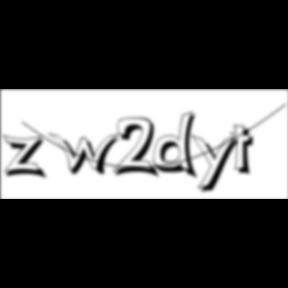2: (113, 117, 163, 181)
d: (153, 110, 203, 182)
t: (230, 124, 262, 179)
w: (49, 132, 127, 178)
y: (191, 132, 245, 196)
z: (2, 134, 52, 182)
